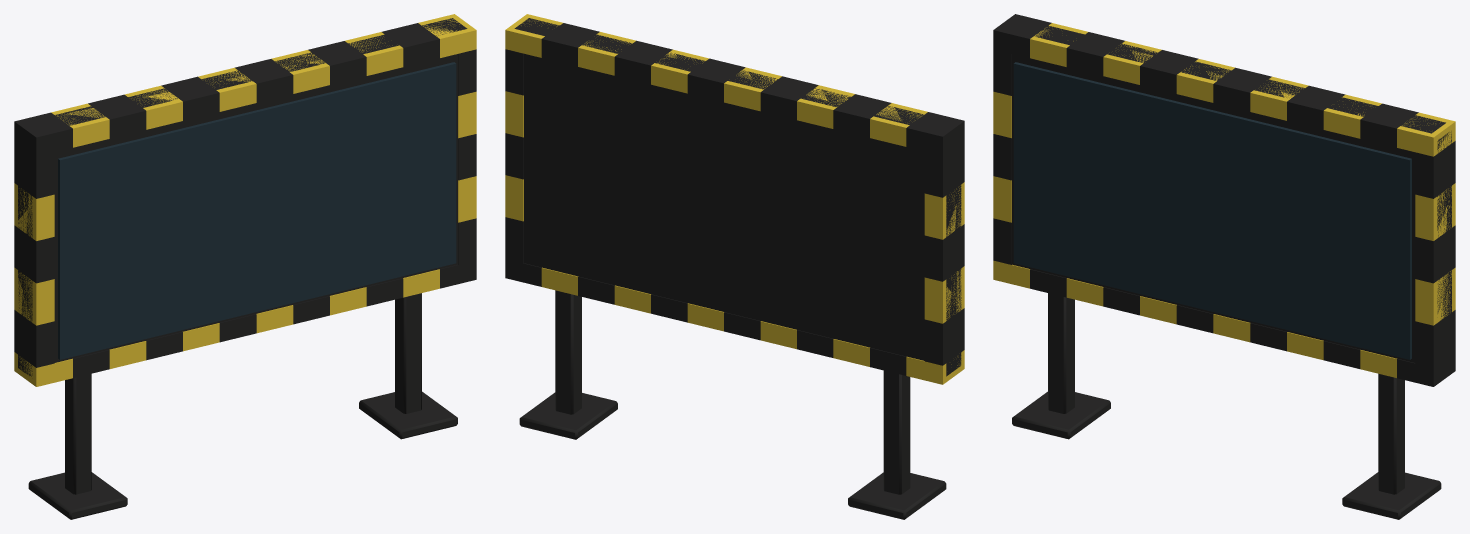
Rendered from 399_ecran_meteo.fbx.
3 renders of one model, left to right at view 1: azimuth 30°, elevation 25°; view 2: azimuth 150°, elevation 25°; view 3: azimuth 330°, elevation 25°, orthographic.
Parts seen in each view (by area): view 1: Ecran, Pieds; view 2: Pieds; view 3: Ecran, Pieds.
Boxes of the visible parts, x1=… form: Ecran: x1=58, y1=62, x2=456, y2=359; Pieds: x1=14, y1=14, x2=476, y2=519; Pieds: x1=505, y1=14, x2=964, y2=519; Ecran: x1=1013, y1=62, x2=1411, y2=359; Pieds: x1=993, y1=14, x2=1455, y2=519.
Size of the model in its own units: 3.36 by 2.8 by 0.56.
Materials: 1 (1 with a texture image).
